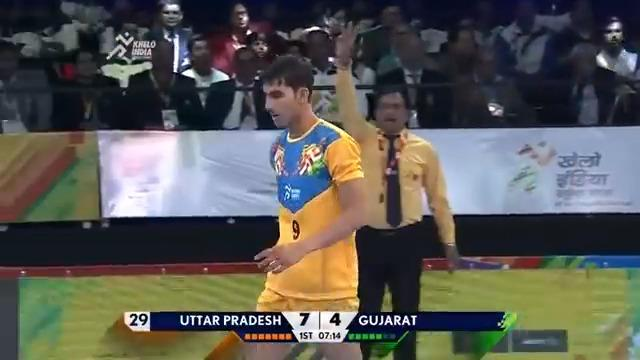Raider: (203, 53, 368, 358)
referee: (330, 21, 464, 358)
